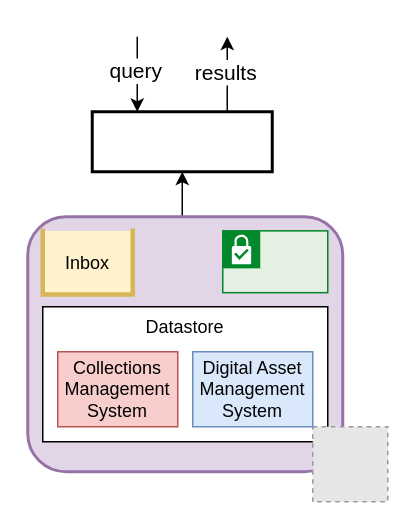
The diagram is 414 pixels wide and 528 high, and some of its shapes have lost their labels. Grey dashed boxes stand in for pictures. Here are the shapes that lost their labels. From the top down, the centre of each, then its label:
At [181,141]: "Query Index".
At [274,261]: "ACL".
